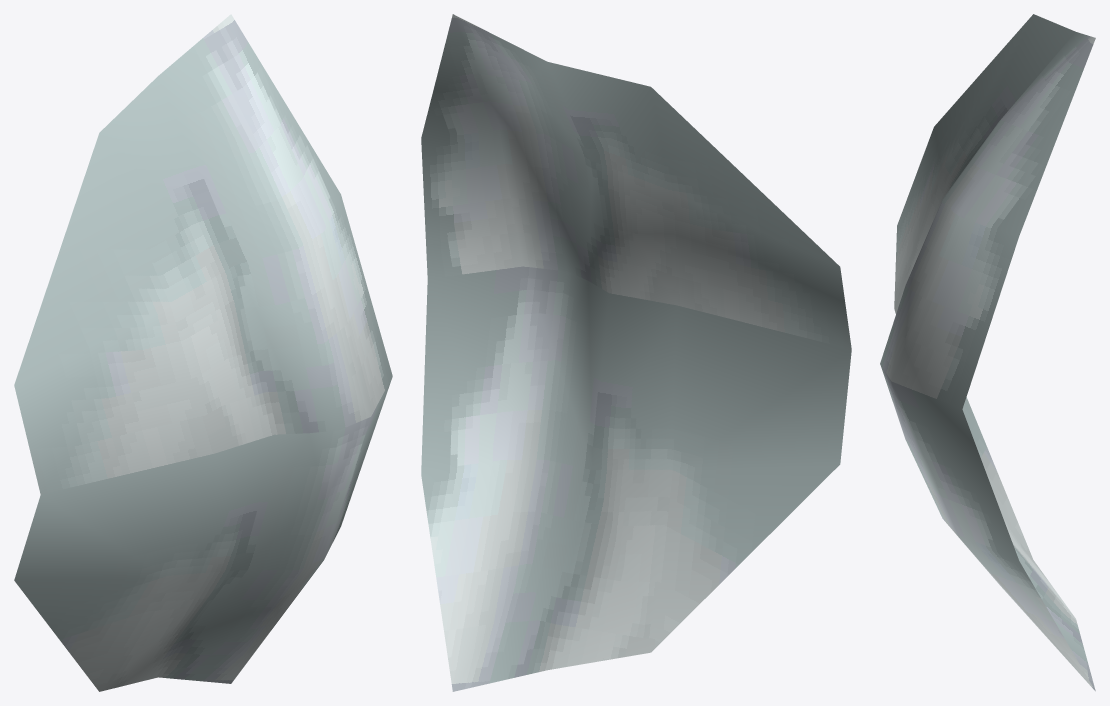
Rendered from acc_beard_xmas.dae.
3 views of the same model, side by side, from view 1: azimuth 30°, elevation 25°; view 2: azimuth 150°, elevation 25°; view 3: azimuth 270°, elevation 25° (orthographic). The views are drawn at different scales.
Visible parts, largest first — view 1: acc_beard_xmas; view 2: acc_beard_xmas; view 3: acc_beard_xmas.
Boxes of the visible parts, <box> form: acc_beard_xmas: <box>14,14,392,691</box>; acc_beard_xmas: <box>421,14,851,691</box>; acc_beard_xmas: <box>880,14,1095,691</box>.
Bounding box in the file's own units: 11.15 × 18.16 × 5.43.
1 material, 1 textured.
